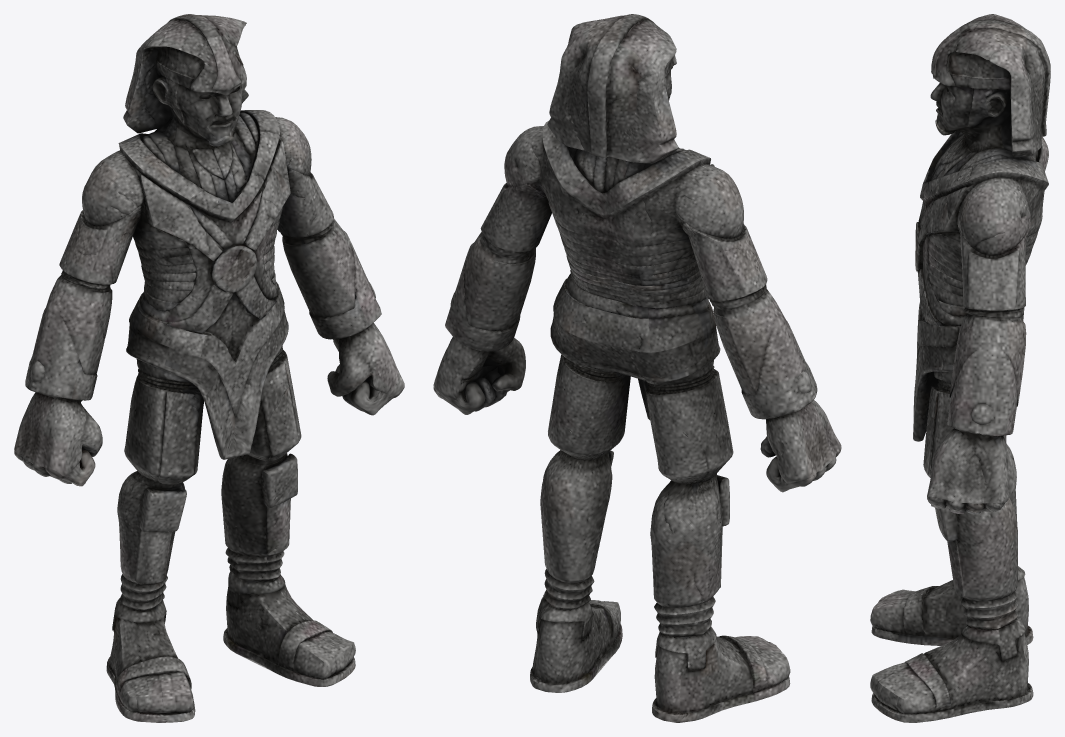
File: MZ4250 - Stone Golem (Unposed).glb
3 renders of one model, left to right at view 1: azimuth 30°, elevation 25°; view 2: azimuth 150°, elevation 25°; view 3: azimuth 270°, elevation 25°, orthographic. The views are drawn at different scales.
Visible parts, largest first — view 1: Body.002; view 2: Body.002; view 3: Body.002.
Boxes of the visible parts, x1=… form: Body.002: x1=14, y1=14, x2=404, y2=722; Body.002: x1=433, y1=14, x2=841, y2=722; Body.002: x1=870, y1=14, x2=1050, y2=722.
Bounding box in the file's own units: 98.77 × 166 × 42.16.
1 material, 1 textured.
